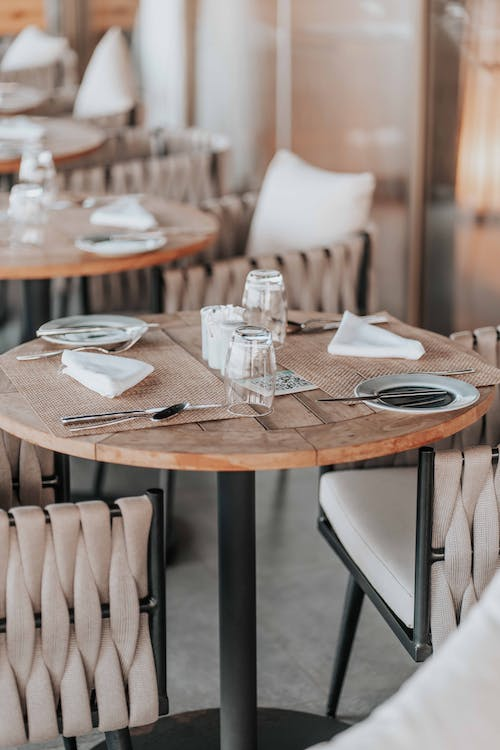knife: (59, 401, 223, 428), (311, 388, 449, 405), (287, 315, 389, 338), (33, 321, 161, 339)
